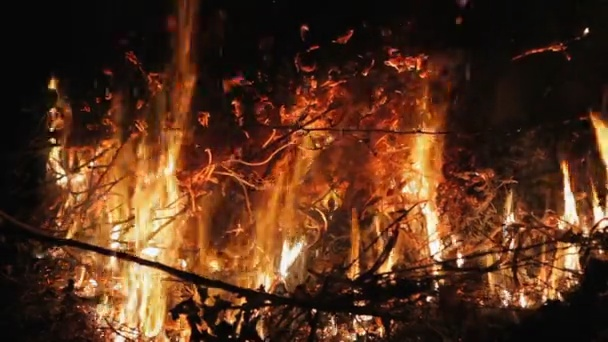fire: (41, 102, 195, 342), (347, 123, 445, 284), (538, 161, 578, 297), (258, 236, 306, 289), (590, 116, 608, 232), (499, 288, 532, 309), (502, 190, 515, 224)
